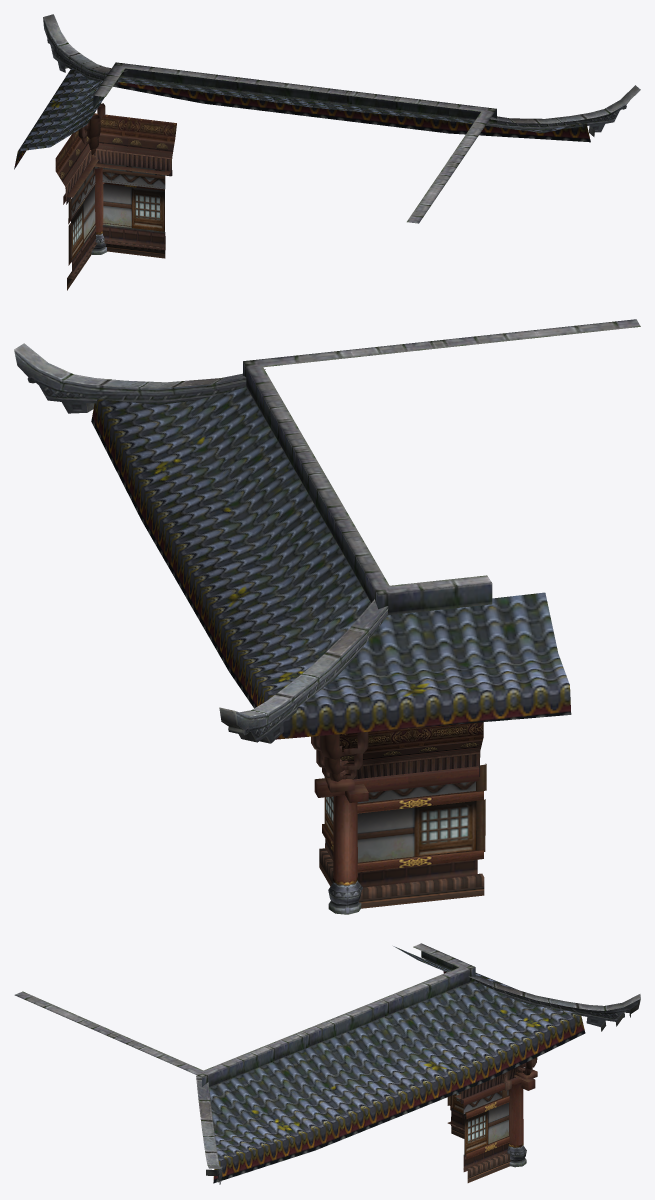
Rendered from S2_Build_XSC058_H4.FBX.
3 views of the same model, one above another, from view 1: azimuth 30°, elevation 25°; view 2: azimuth 150°, elevation 25°; view 3: azimuth 270°, elevation 25° (orthographic). The views are drawn at different scales.
Visible parts, largest first — view 1: S2_Build_XSC058_H4; view 2: S2_Build_XSC058_H4; view 3: S2_Build_XSC058_H4.
Part boxes in pixels (bbox=[...]): S2_Build_XSC058_H4: bbox=[14, 14, 640, 290]; S2_Build_XSC058_H4: bbox=[14, 319, 640, 914]; S2_Build_XSC058_H4: bbox=[14, 943, 640, 1184].
Size of the model in its own units: 6995 by 2712 by 7872.
